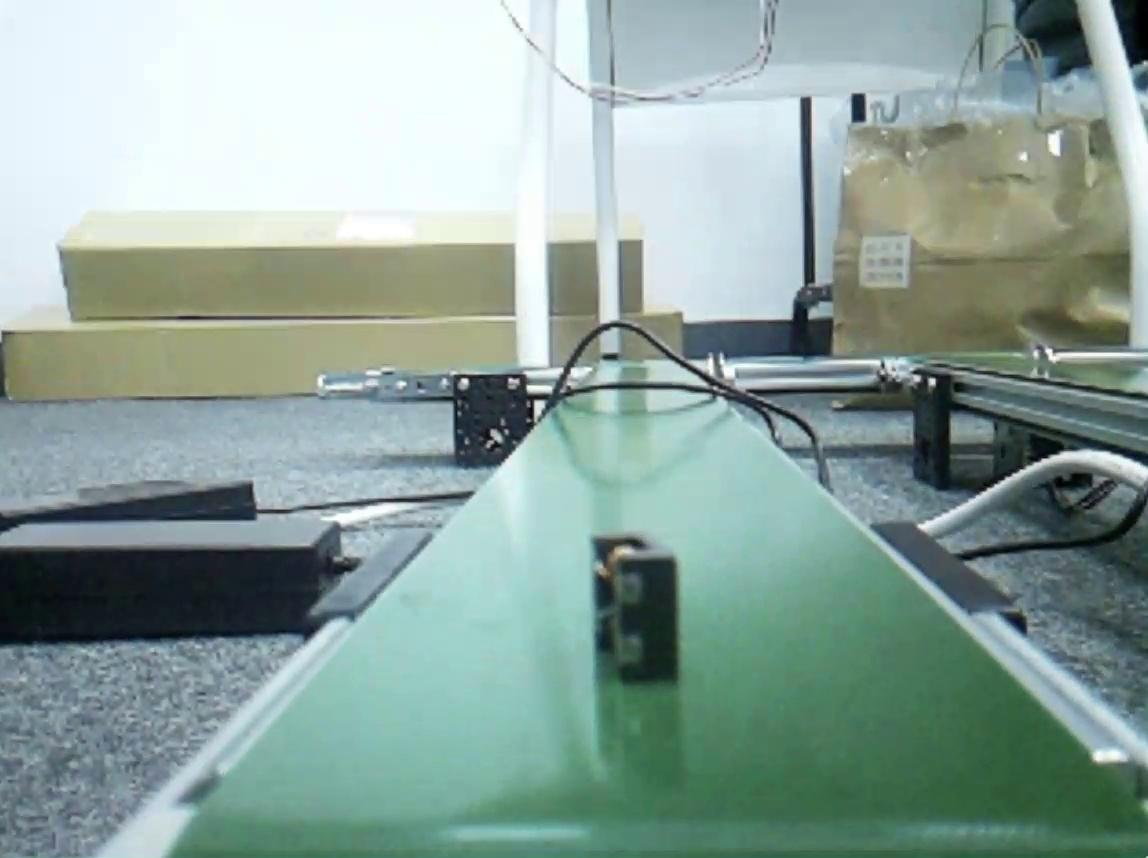inductor: (590, 533, 679, 684)
